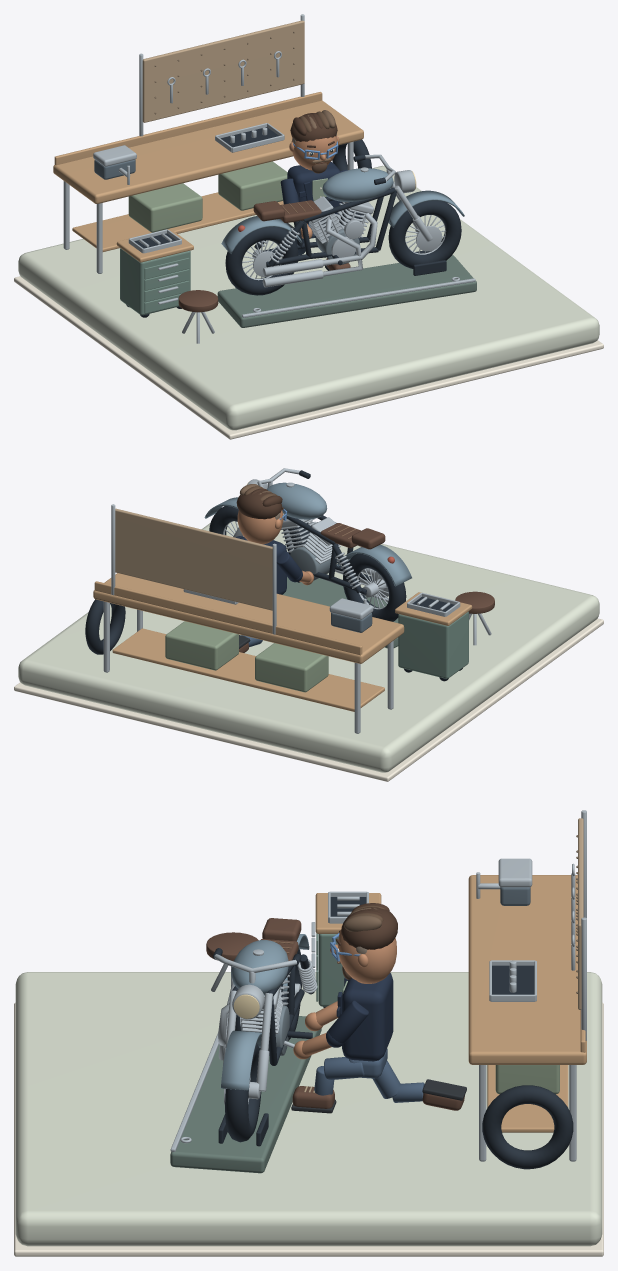
File: fabrication.glb
3 renders of one model, top to bottom at view 1: azimuth 30°, elevation 25°; view 2: azimuth 150°, elevation 25°; view 3: azimuth 270°, elevation 25°, orthographic. The views are drawn at different scales.
Parts seen in each view (by area): view 1: Square floating plinth, Pegboard panel, Oak desktop, Motorcycle lift, Ivory lower edge, Underbench shelf, Parts bin, Bench backsplash, Road tire.001, Parts bin.001, Road tire, Cabinet body (+14 smaller); view 2: Square floating plinth, Pegboard panel, Oak desktop, Ivory lower edge, Underbench shelf, Cabinet body, Bench backsplash, Parts bin.001, Parts bin, Road tire, Teardrop petrol tank, Motorcycle lift (+19 smaller); view 3: Square floating plinth, Oak desktop, Motorcycle lift, Ivory lower edge, Spare tire, Jacket body, Underbench shelf, Teardrop petrol tank, Road tire.001, Road fender.001, Face, Parts bin.001 (+17 smaller).
Boxes of the visible parts, x1=… form: Square floating plinth: x1=18, y1=165, x2=599, y2=430; Pegboard panel: x1=142, y1=20, x2=304, y2=122; Oak desktop: x1=53, y1=100, x2=363, y2=203; Motorcycle lift: x1=217, y1=255, x2=476, y2=327; Ivory lower edge: x1=14, y1=276, x2=603, y2=439; Underbench shelf: x1=72, y1=192, x2=283, y2=251; Parts bin: x1=128, y1=183, x2=202, y2=232; Bench backsplash: x1=54, y1=92, x2=322, y2=165; Road tire.001: x1=388, y1=200, x2=461, y2=268; Parts bin.001: x1=218, y1=161, x2=287, y2=210; Road tire: x1=225, y1=227, x2=298, y2=295; Cabinet body: x1=120, y1=248, x2=190, y2=315; Square floating plinth: x1=18, y1=521, x2=599, y2=772; Pegboard panel: x1=115, y1=508, x2=272, y2=610; Oak desktop: x1=93, y1=573, x2=404, y2=663; Ivory lower edge: x1=14, y1=618, x2=603, y2=781; Underbench shelf: x1=112, y1=628, x2=384, y2=711; Cabinet body: x1=398, y1=611, x2=468, y2=678; Bench backsplash: x1=94, y1=581, x2=362, y2=655; Parts bin.001: x1=165, y1=621, x2=238, y2=670; Parts bin: x1=255, y1=643, x2=328, y2=692; Road tire: x1=342, y1=553, x2=406, y2=621; Teardrop petrol tank: x1=266, y1=482, x2=327, y2=519; Motorcycle lift: x1=282, y1=577, x2=398, y2=648; Square floating plinth: x1=15, y1=972, x2=602, y2=1246; Oak desktop: x1=468, y1=875, x2=586, y2=1064; Motorcycle lift: x1=170, y1=1016, x2=321, y2=1173; Ivory lower edge: x1=14, y1=1002, x2=603, y2=1256; Spare tire: x1=482, y1=1085, x2=573, y2=1169; Jacket body: x1=342, y1=973, x2=393, y2=1061; Underbench shelf: x1=487, y1=1065, x2=568, y2=1132; Teardrop petrol tank: x1=231, y1=940, x2=288, y2=995; Road tire.001: x1=225, y1=1043, x2=261, y2=1142; Road fender.001: x1=221, y1=1030, x2=261, y2=1090; Face: x1=337, y1=929, x2=396, y2=983; Parts bin.001: x1=495, y1=1065, x2=559, y2=1094.
Size of the model in its own units: 5.23 by 2.71 by 5.23.
